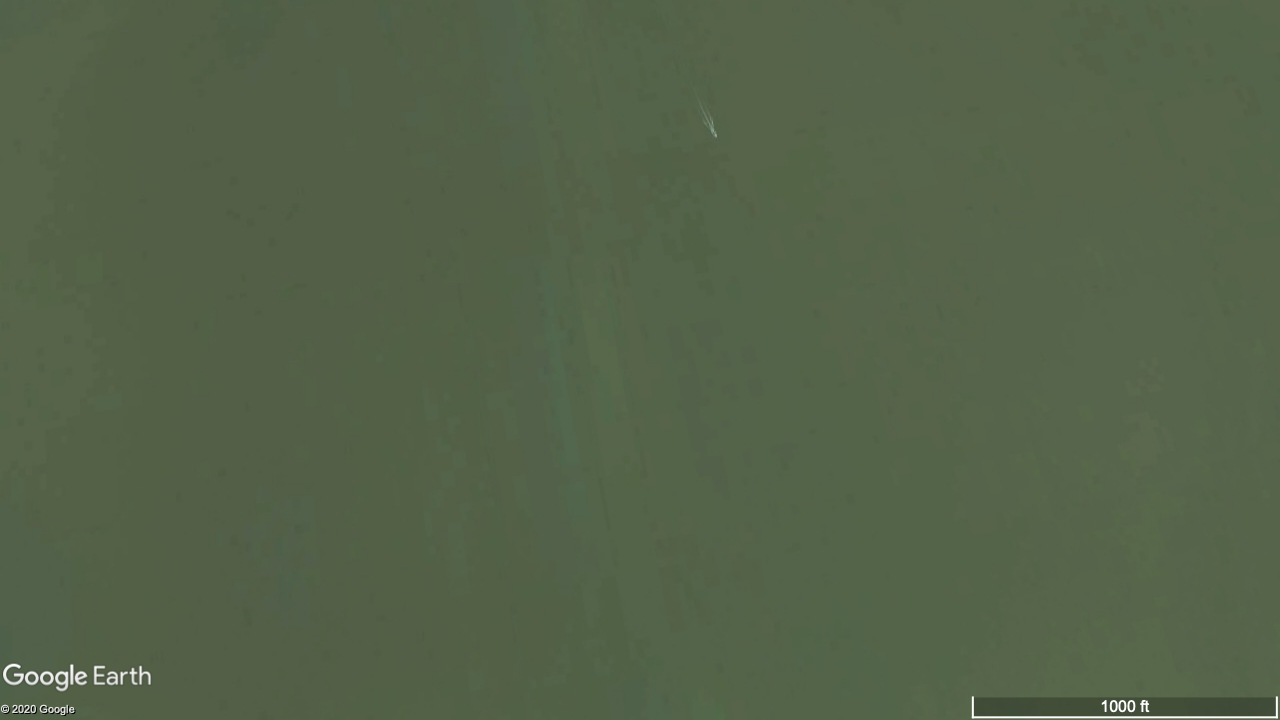boat: (712, 131, 718, 138)
